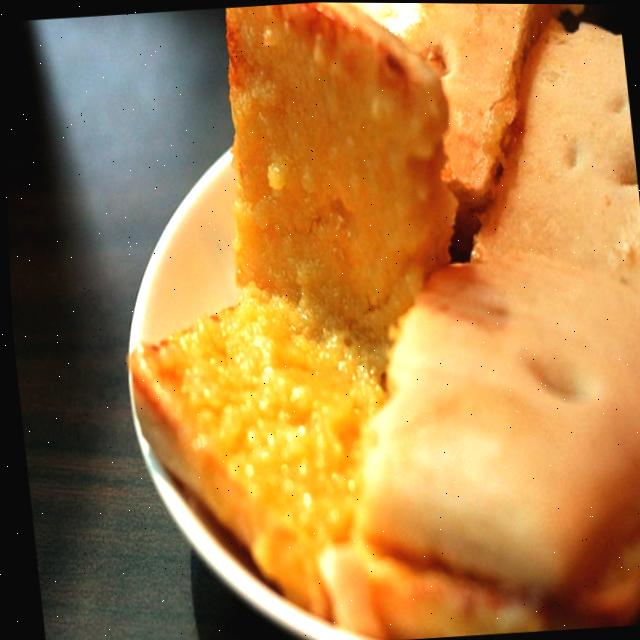面包点心: (82, 0, 640, 640)
